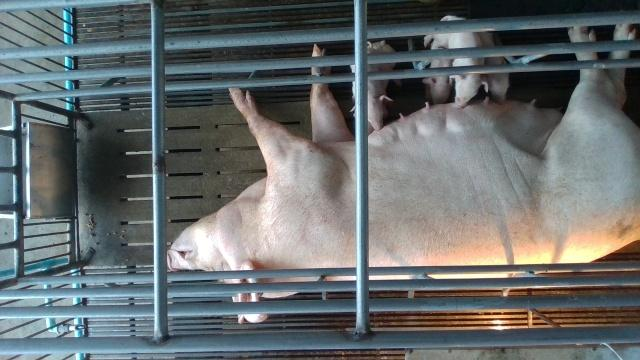piglet: (442, 15, 490, 107), (350, 40, 396, 133), (480, 31, 512, 105), (422, 36, 454, 105)
sow-sleep-lactate: (167, 26, 640, 324)
